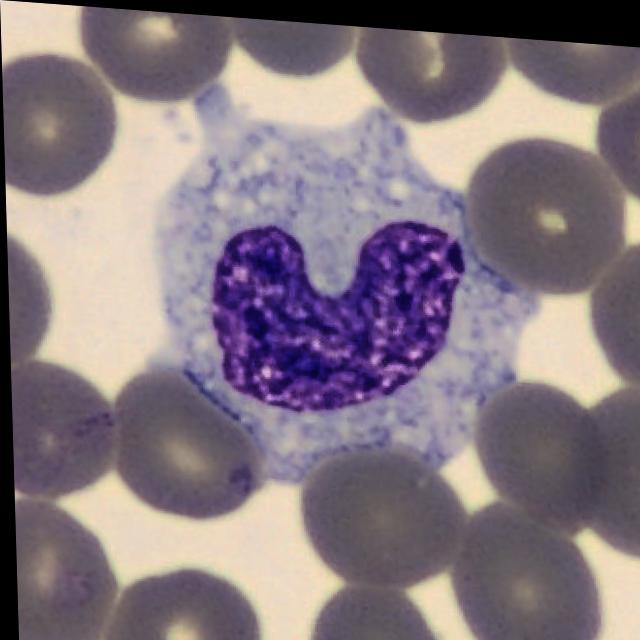Monocito: (160, 85, 532, 477)
